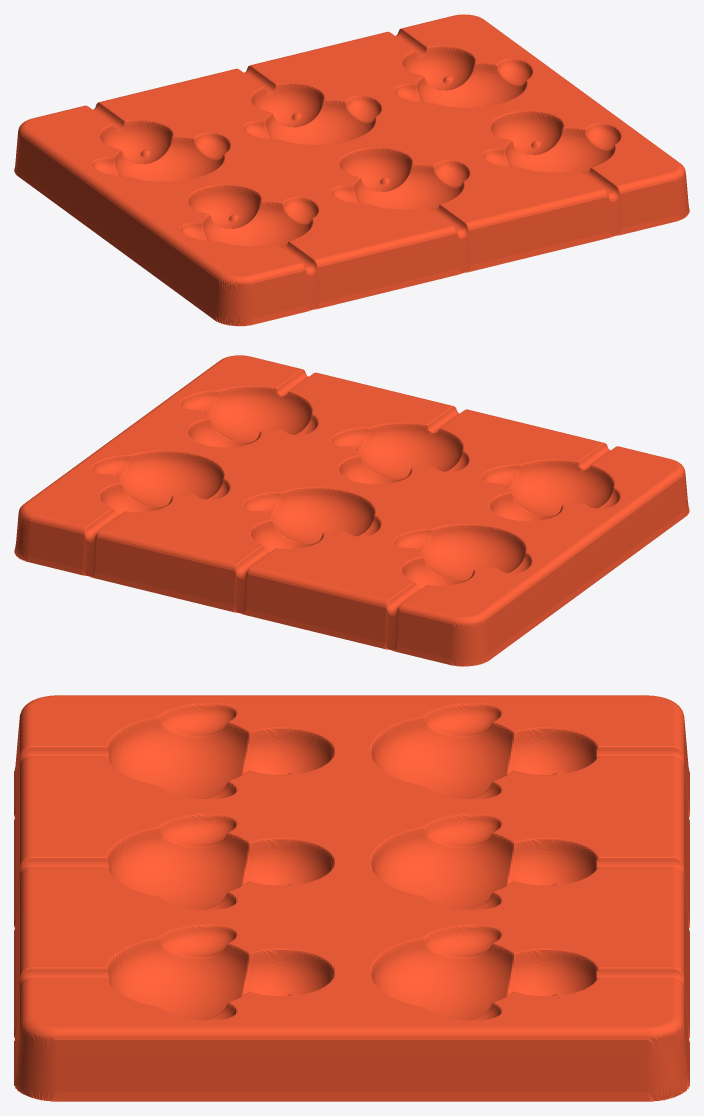
Rendered from mold.glb.
The picture shows the model from 3 angles, top to bottom: view 1: azimuth 30°, elevation 25°; view 2: azimuth 150°, elevation 25°; view 3: azimuth 270°, elevation 25°; orthographic projection. The views are drawn at different scales.
Parts seen in each view (by area): view 1: geometry_0; view 2: geometry_0; view 3: geometry_0.
Part boxes in pixels (x1,y1,x2,y2): geometry_0: [14, 14, 689, 326]; geometry_0: [14, 355, 689, 666]; geometry_0: [14, 695, 689, 1101].
Size of the model in its own units: 0.1695 by 0.0154 by 0.1403.
